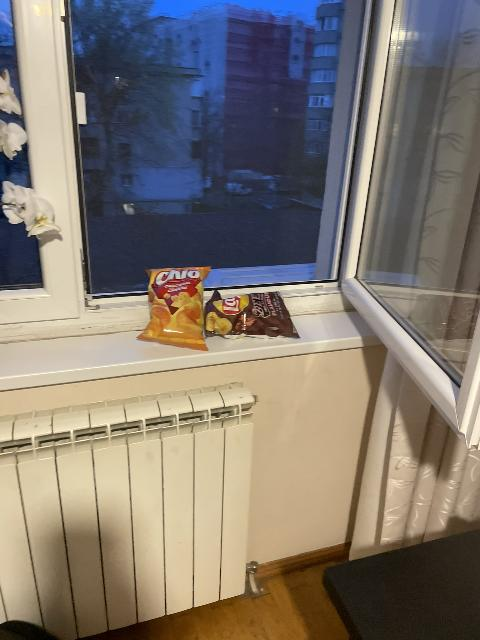Chio Cascaval 125g: (135, 267, 211, 350)
Lays Beef Grilled Ribs 125g: (203, 290, 300, 340)
